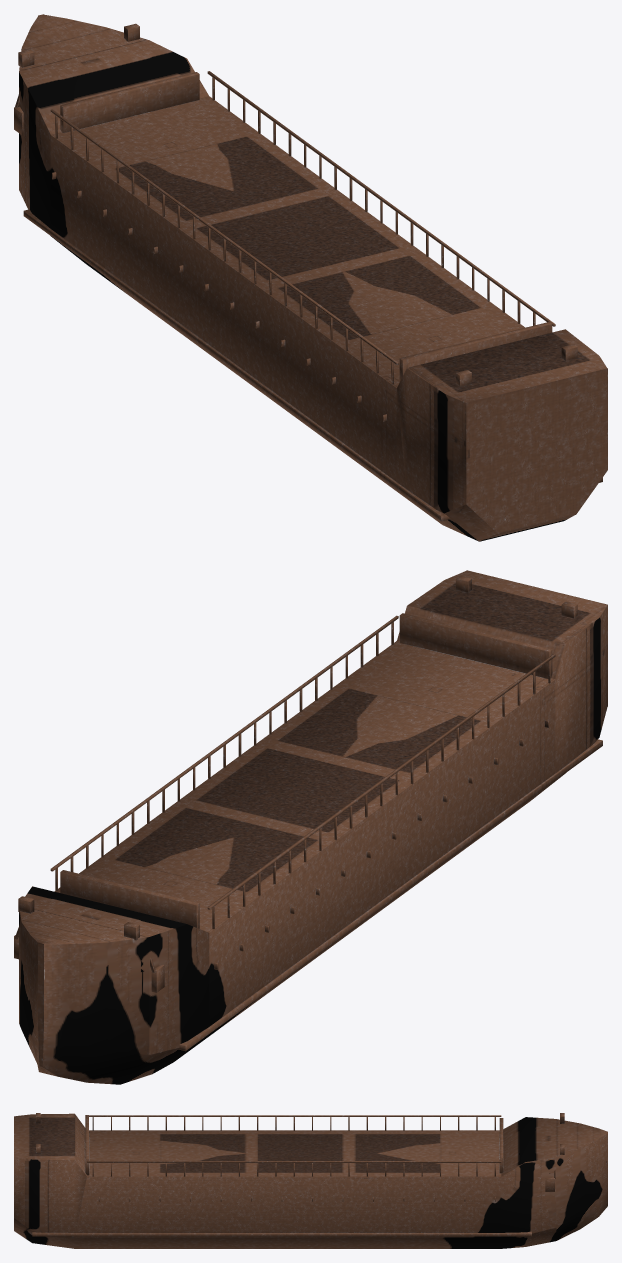
File: Barco_Casco.fbx
3 views of the same model, one above another, from view 1: azimuth 30°, elevation 25°; view 2: azimuth 150°, elevation 25°; view 3: azimuth 270°, elevation 25° (orthographic). The views are drawn at different scales.
Visible parts, largest first — view 1: Barco_Casco; view 2: Barco_Casco; view 3: Barco_Casco.
Part boxes in pixels (x1,y1,x2,y2): Barco_Casco: (14, 14, 607, 541); Barco_Casco: (14, 570, 607, 1084); Barco_Casco: (14, 1113, 607, 1248).
Bounding box in the file's own units: 18.8 × 19.2 × 97.5.
